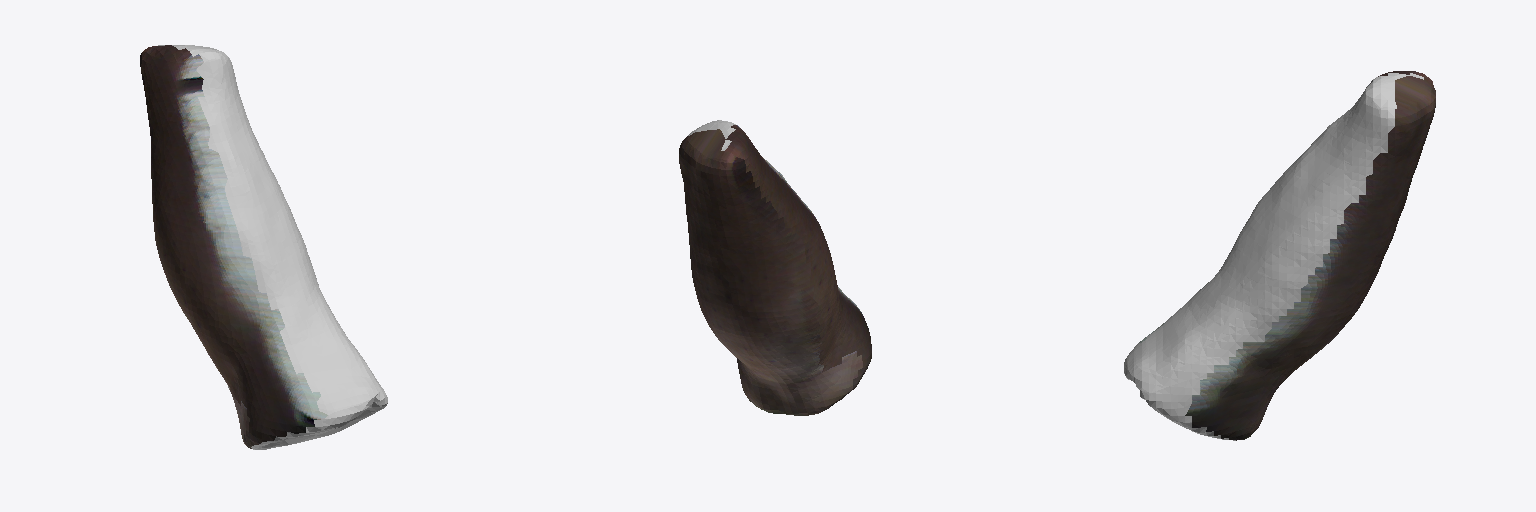
3 views of the same model, side by side, from view 1: azimuth 30°, elevation 25°; view 2: azimuth 150°, elevation 25°; view 3: azimuth 270°, elevation 25° (orthographic).
Bounding box in the file's own units: 0.1698 × 0.3875 × 0.3185.
3 materials, 2 textured.